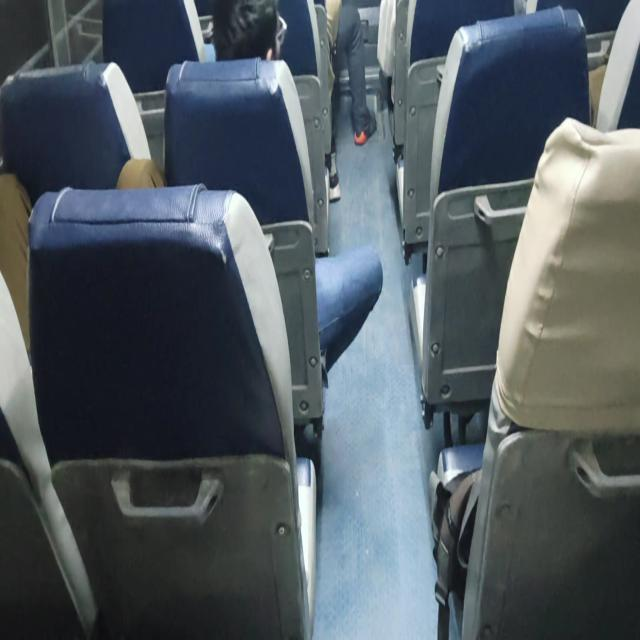person: (215, 0, 289, 77)
